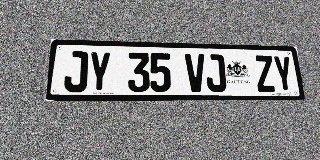3: (128, 52, 150, 92)
5: (150, 53, 171, 92)
J: (63, 51, 88, 92), (205, 54, 227, 92)
V: (185, 54, 206, 92)
Y: (87, 51, 111, 92), (272, 56, 295, 92)
Z: (254, 55, 276, 92)
